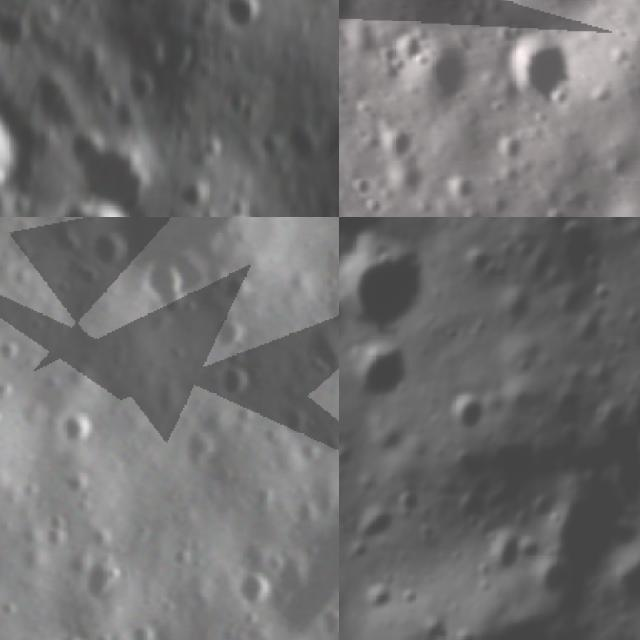crater: (243, 450, 339, 640), (339, 233, 424, 344), (500, 28, 580, 122), (0, 373, 36, 549), (125, 246, 204, 326), (344, 340, 417, 417), (414, 37, 478, 105), (40, 395, 109, 458), (286, 312, 339, 390), (430, 386, 490, 451), (306, 110, 339, 217), (209, 352, 265, 411), (72, 553, 125, 612), (600, 537, 640, 614), (226, 558, 278, 615), (178, 414, 228, 472), (203, 306, 257, 359), (152, 34, 204, 89), (84, 220, 136, 274), (477, 523, 524, 579), (351, 496, 396, 552), (120, 63, 163, 114), (375, 114, 420, 162), (211, 261, 259, 305), (618, 408, 640, 496), (219, 0, 265, 40), (358, 575, 397, 621), (306, 594, 339, 640), (51, 200, 133, 217), (0, 6, 31, 47), (493, 130, 528, 166), (443, 177, 481, 209), (339, 0, 365, 44), (43, 620, 100, 640), (0, 329, 30, 366), (349, 171, 375, 198), (629, 324, 640, 377), (364, 191, 384, 216), (540, 205, 569, 217)
